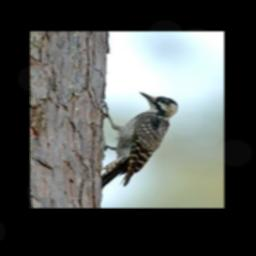Woodpecker: (93, 91, 180, 192)
